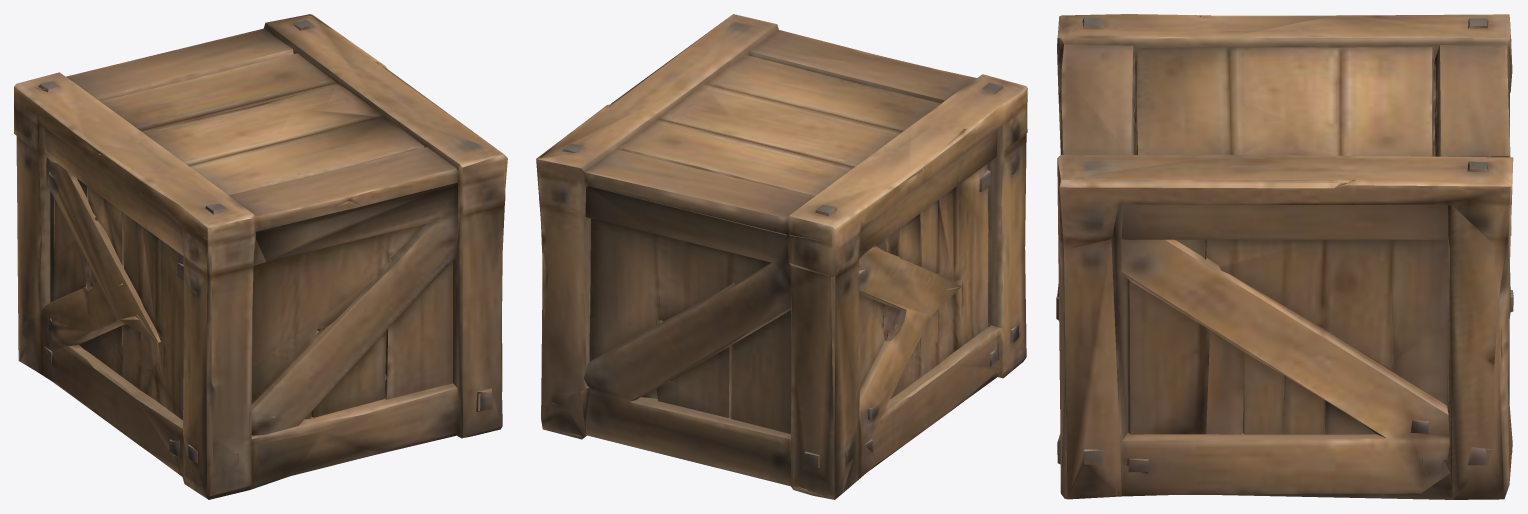
3 views of the same model, side by side, from view 1: azimuth 30°, elevation 25°; view 2: azimuth 150°, elevation 25°; view 3: azimuth 270°, elevation 25° (orthographic). The views are drawn at different scales.
Visible parts, largest first — view 1: geometry_0; view 2: geometry_0; view 3: geometry_0.
Part boxes in pixels (x1,y1,x2,y2): geometry_0: (14, 14, 507, 499); geometry_0: (536, 14, 1027, 499); geometry_0: (1056, 14, 1513, 499).
Bounding box in the file's own units: 0.5987 × 0.5348 × 0.6755.
Materials: 1 (1 with a texture image).
